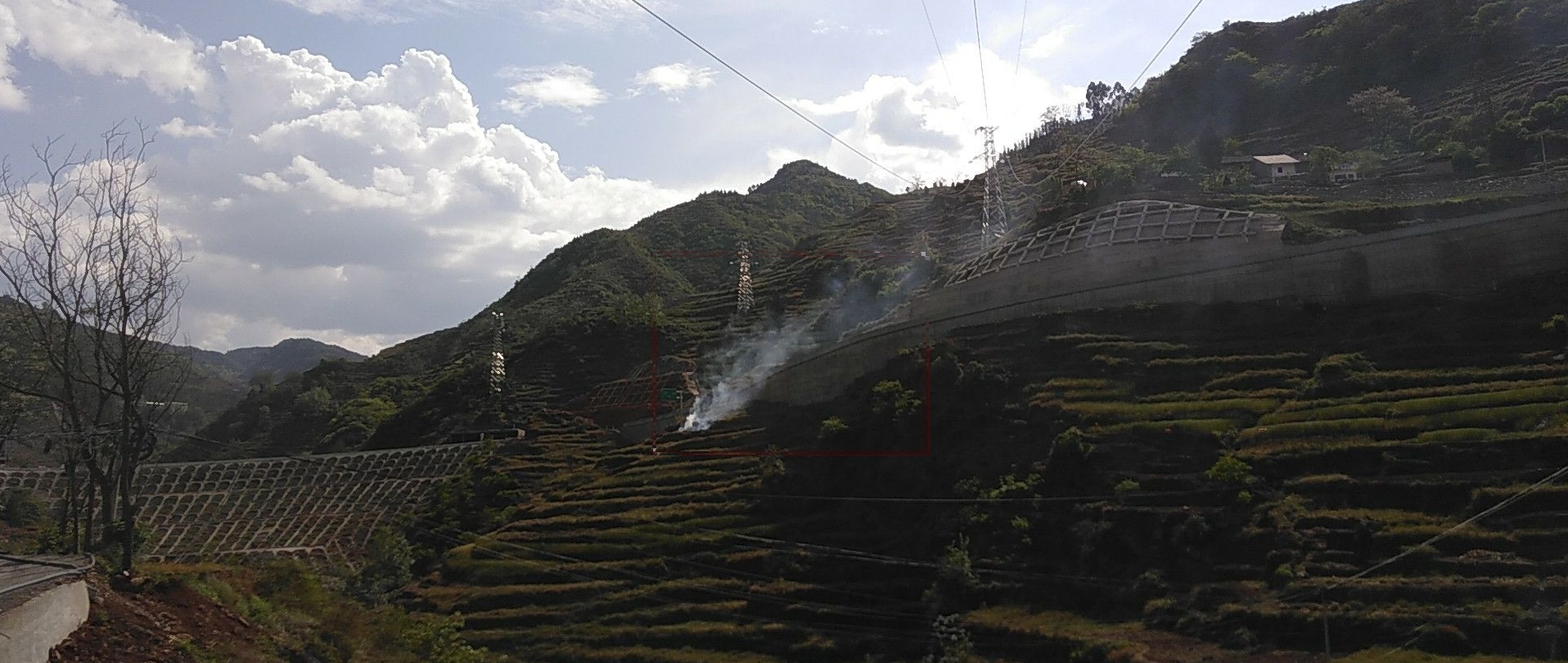烟雾: (678, 159, 1042, 432)
